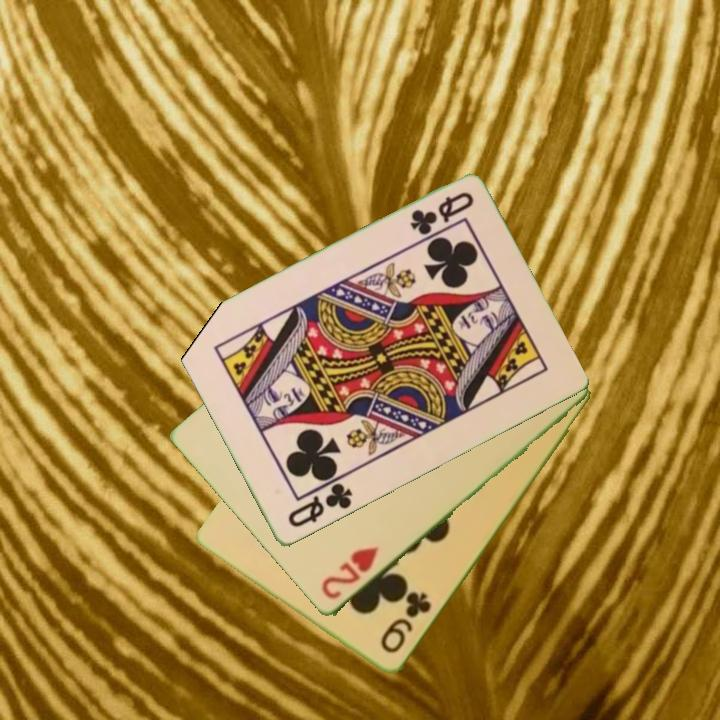2h: (317, 543, 382, 603)
9c: (377, 589, 435, 657)
Qc: (284, 479, 356, 531), (406, 189, 477, 239)
